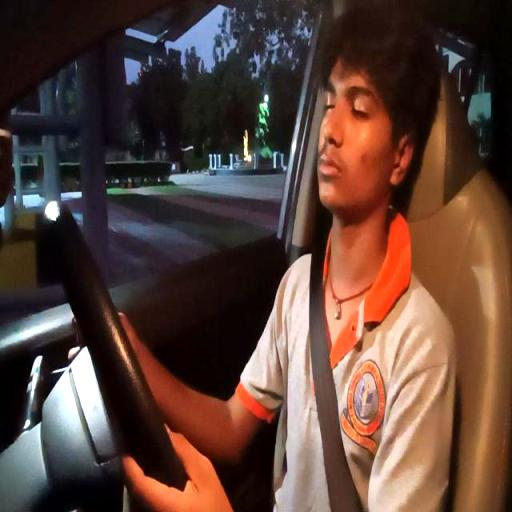sleepy: (314, 11, 427, 286)
